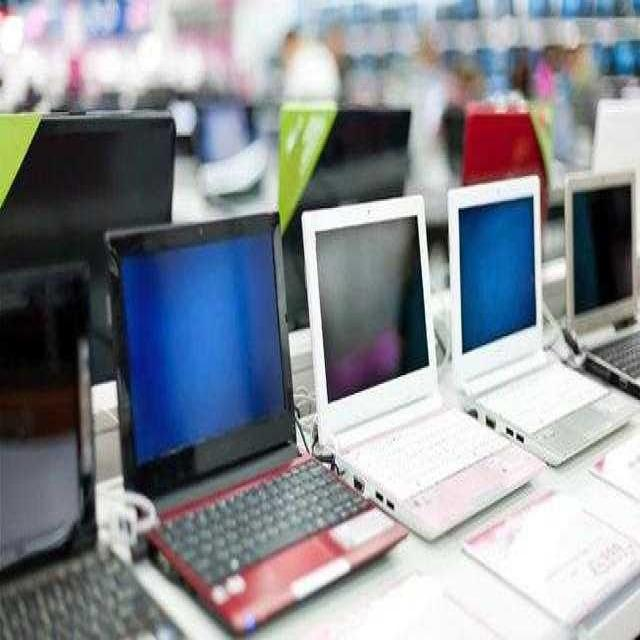laptop: (110, 236, 353, 618), (313, 214, 525, 535), (447, 182, 640, 458), (0, 310, 113, 640)
